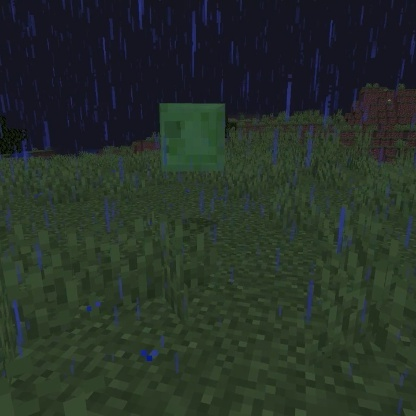slime: (156, 100, 230, 179)
